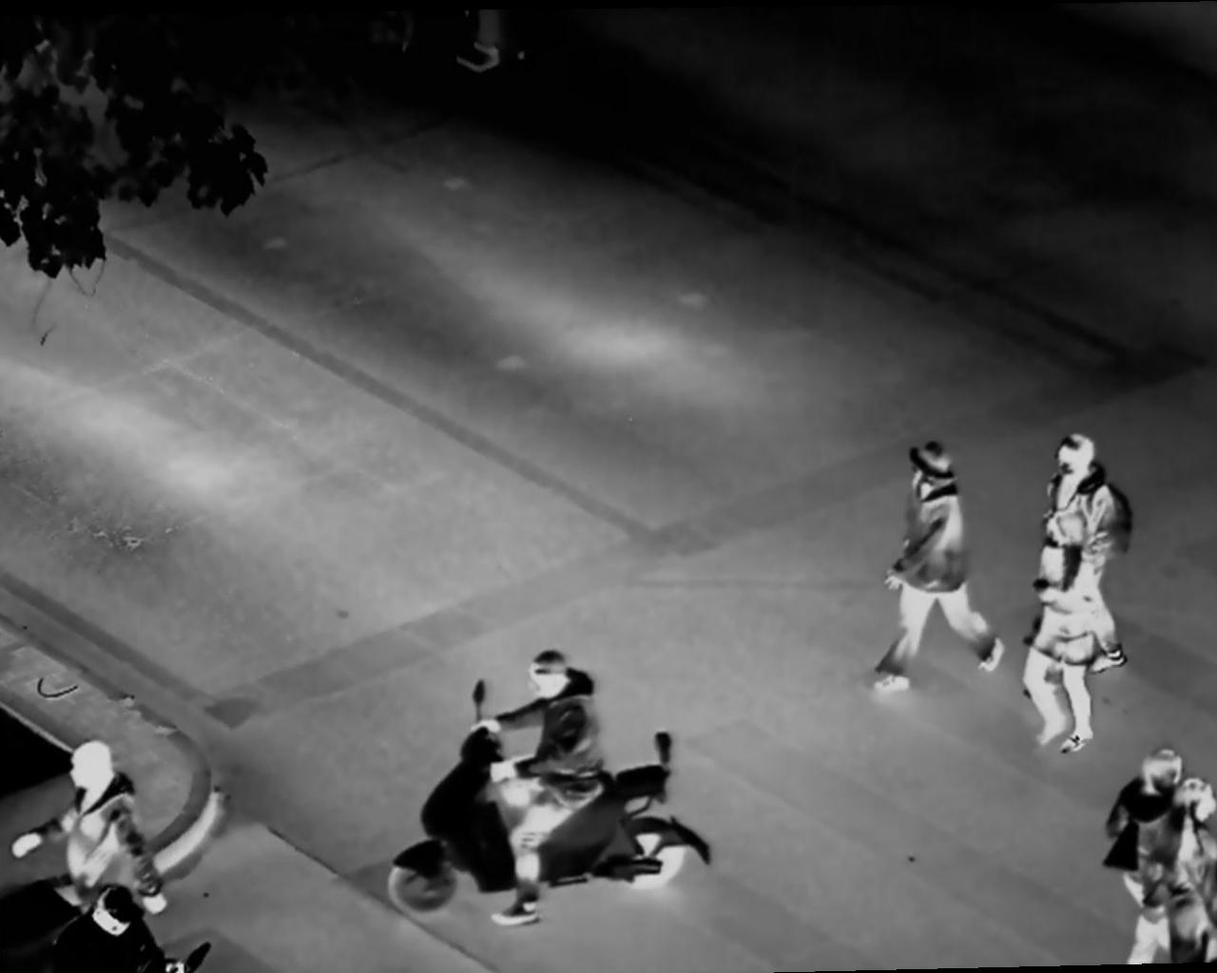person: (470, 642, 629, 956), (12, 729, 176, 973), (872, 436, 1013, 716), (1018, 506, 1114, 753), (1038, 434, 1126, 675), (1101, 749, 1180, 966), (1152, 775, 1217, 947)
